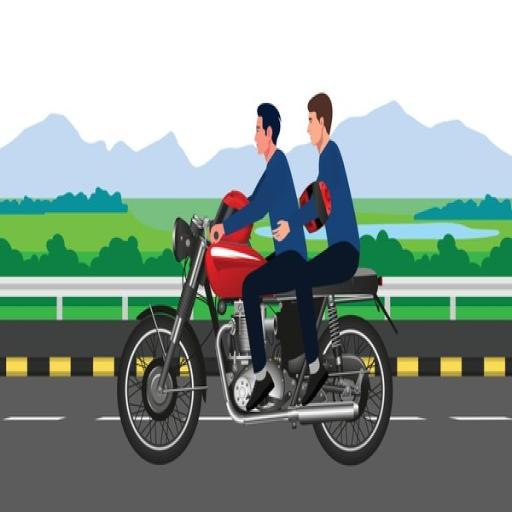no_helm: (241, 83, 352, 172)
